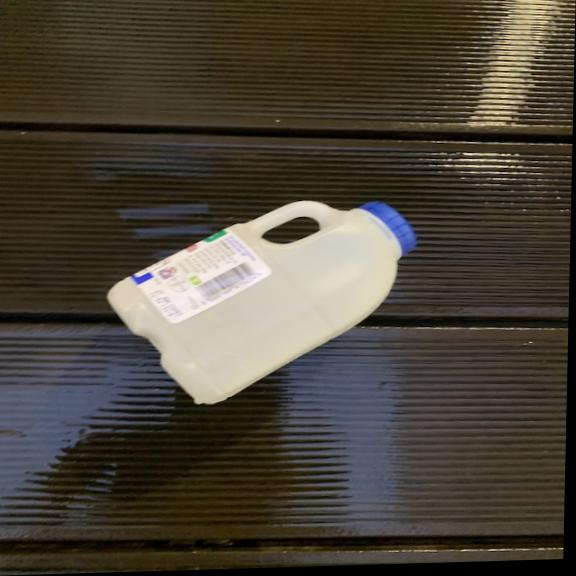Plastik: (100, 194, 420, 406)
